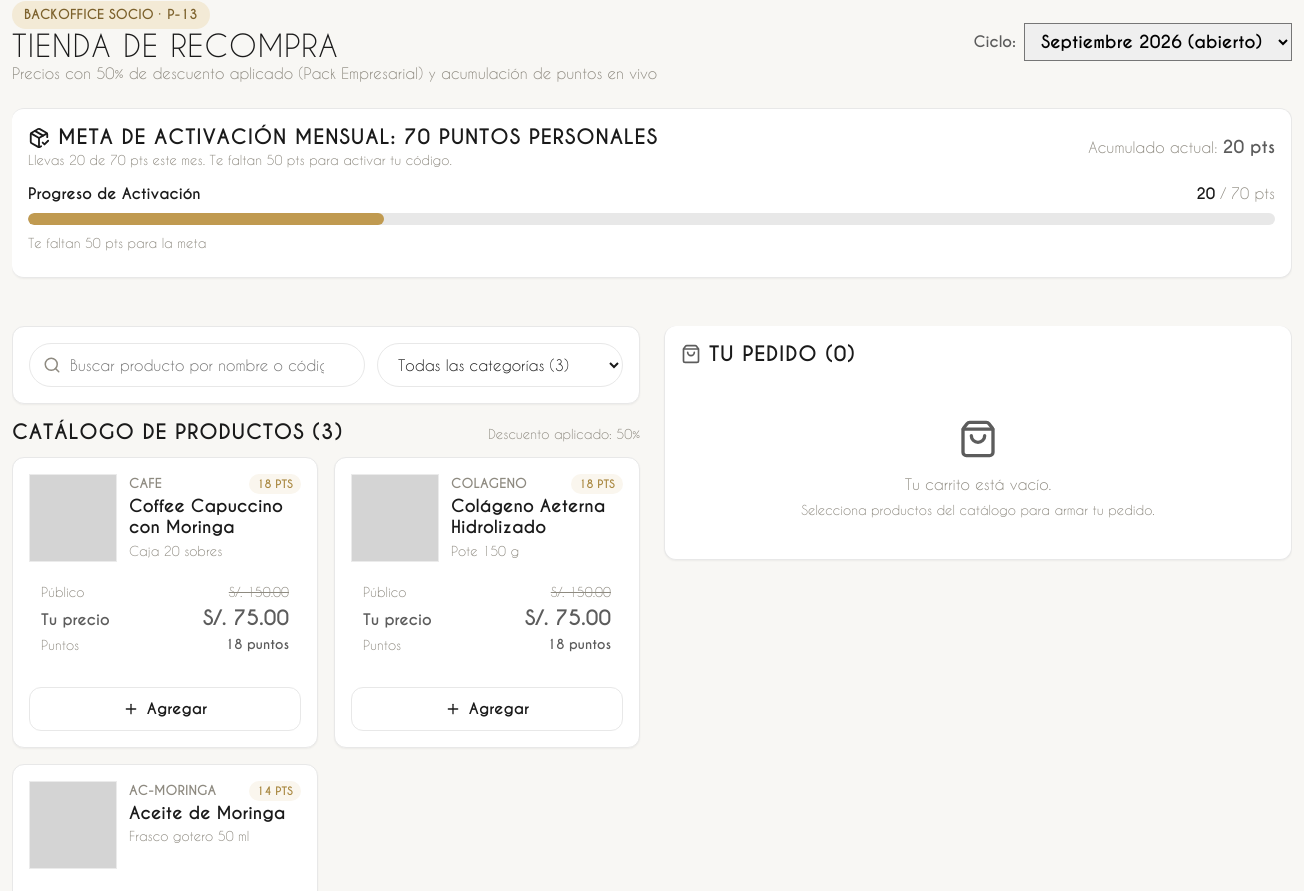
Test: TAREA-58 · P-13 Tienda con el pulgar › 4 · Muestra estado vacío si no hay coincidencias y permite limpiar la búsqueda
Expected: the heading "Coffee Capuccino con Moringa" is shown, 129,496 -> 301,538
Type "producto-inexistente-xyz" into the field with test id "input-buscar-tienda".
click(197, 364); type("producto-inexistente-xyz")  # box 29,342 -> 365,386
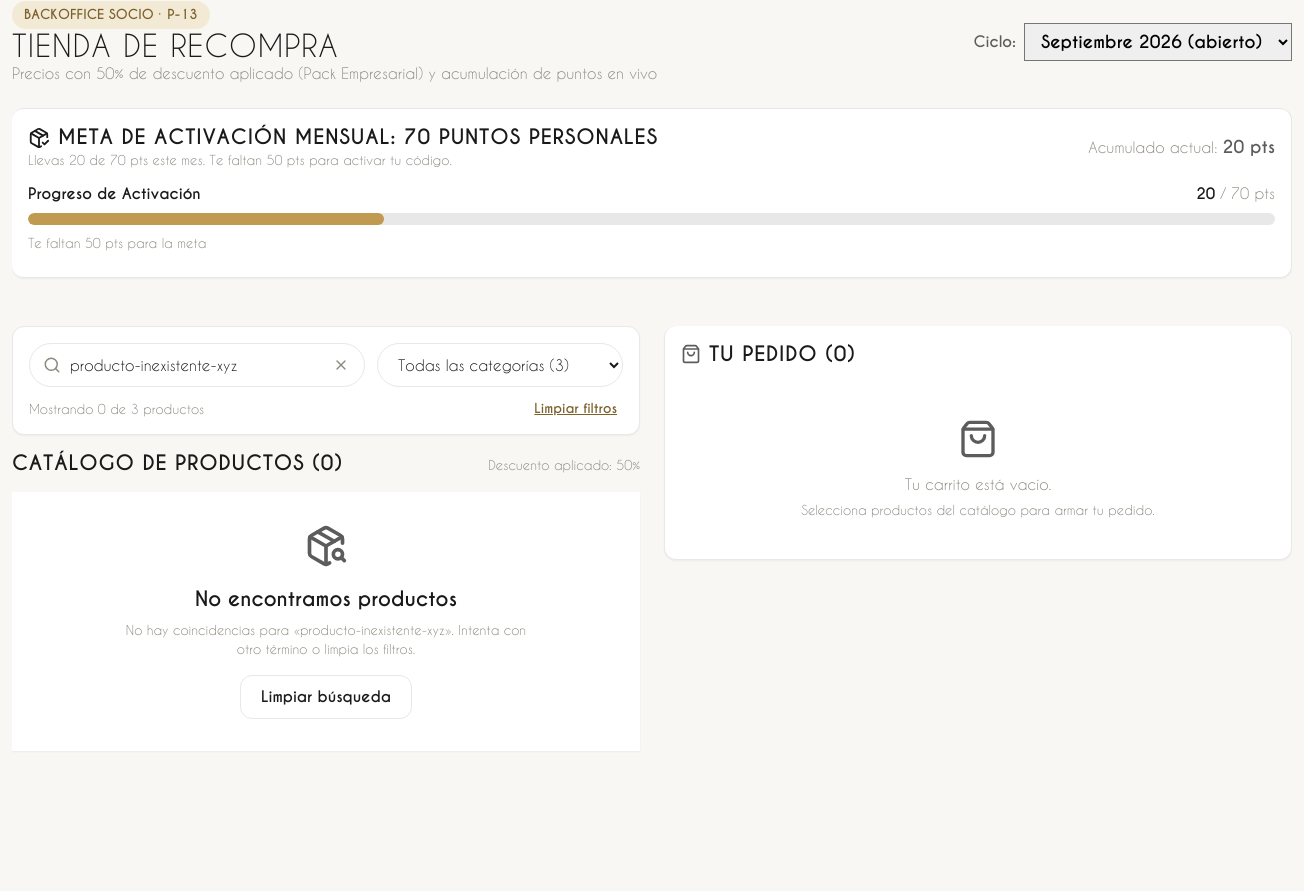
Expected: the element with test id "tienda-sin-resultados" is shown, 12,492 -> 640,750
Expected: the heading "No encontramos productos" is shown, 195,586 -> 457,612
Click en limpiar búsqueda
Click the button with test id "btn-sin-resultados-limpiar".
click(326, 696)  # box 240,674 -> 412,718
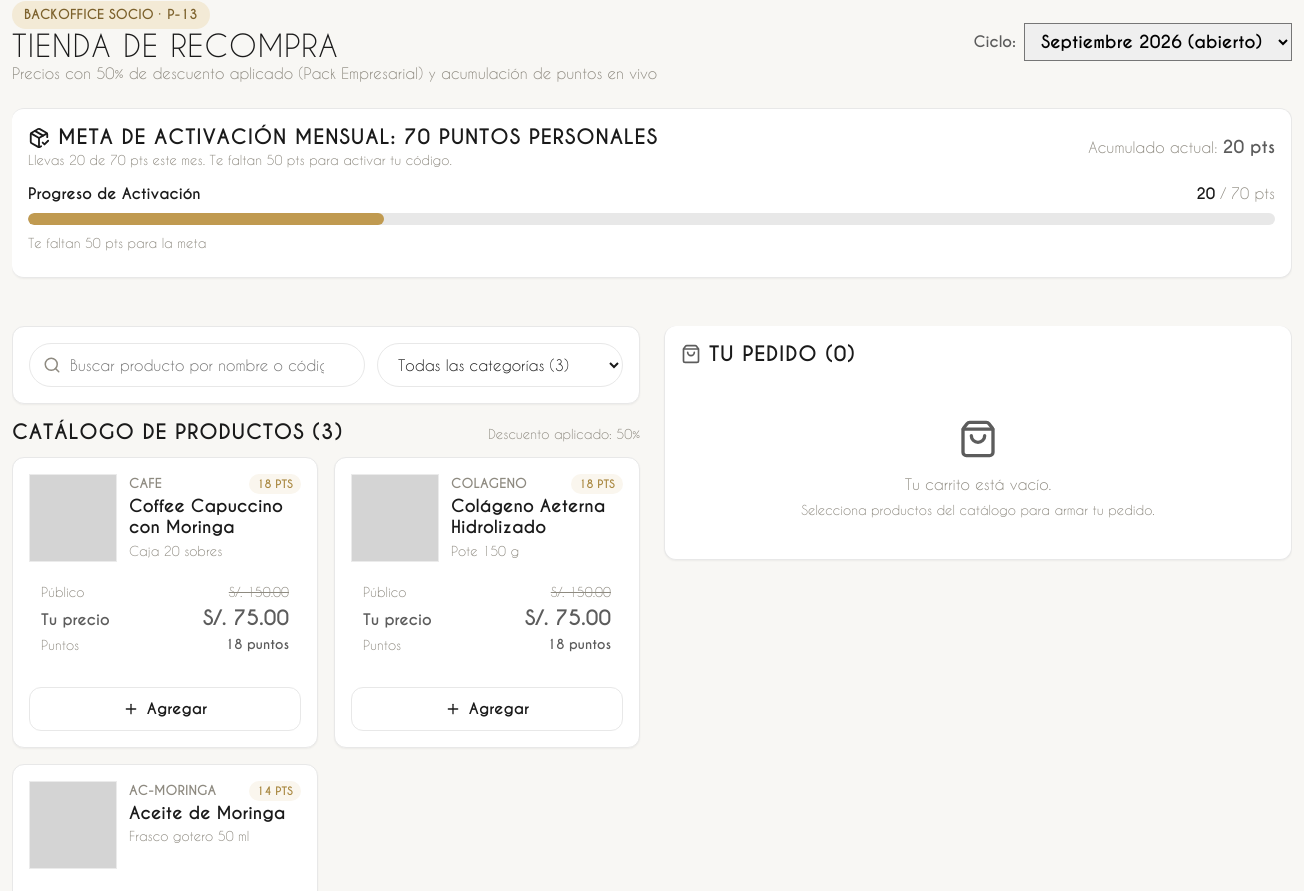
Expected: the heading "Coffee Capuccino con Moringa" is shown, 129,496 -> 301,538
Expected: the heading "Colágeno Aeterna Hidrolizado" is shown, 451,496 -> 623,538
Expected: the heading "Aceite de Moringa" is shown, 129,803 -> 301,824
